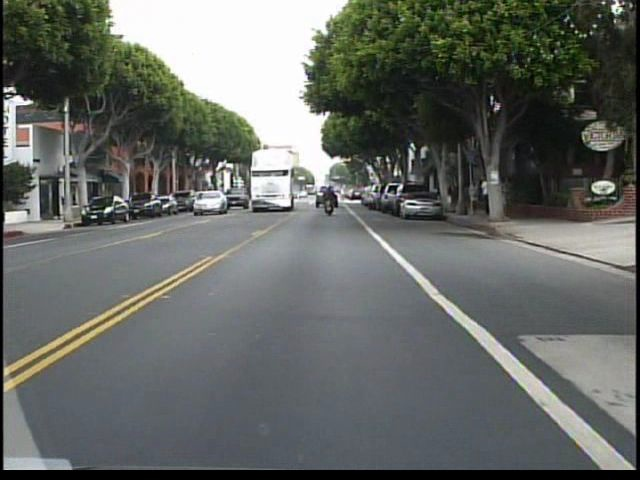person: (320, 182, 339, 220), (467, 175, 482, 219), (478, 175, 490, 219), (503, 172, 513, 219)
